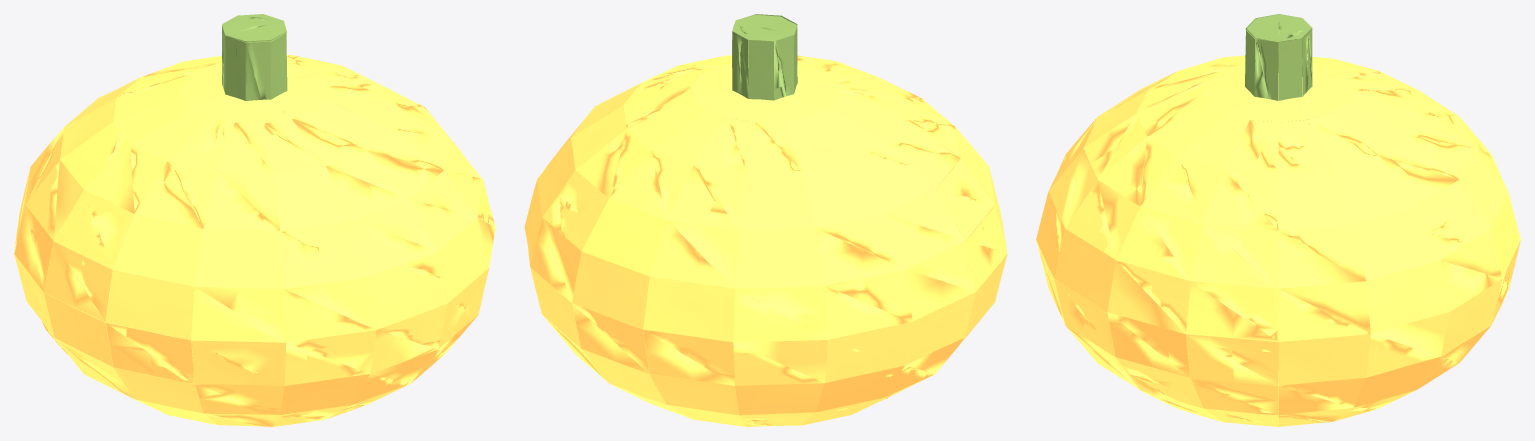
The model's file is pumpkin.glb.
3 views of the same model, side by side, from view 1: azimuth 30°, elevation 25°; view 2: azimuth 150°, elevation 25°; view 3: azimuth 270°, elevation 25° (orthographic).
Parts seen in each view (by area): view 1: Pumpkin; view 2: Pumpkin; view 3: Pumpkin.
Part boxes in pixels (box(x1,y1,x2,y2)): Pumpkin: box(14, 14, 495, 426); Pumpkin: box(524, 14, 1007, 426); Pumpkin: box(1036, 14, 1520, 426).
Bounding box in the file's own units: 2.3 × 1.93 × 2.3.
